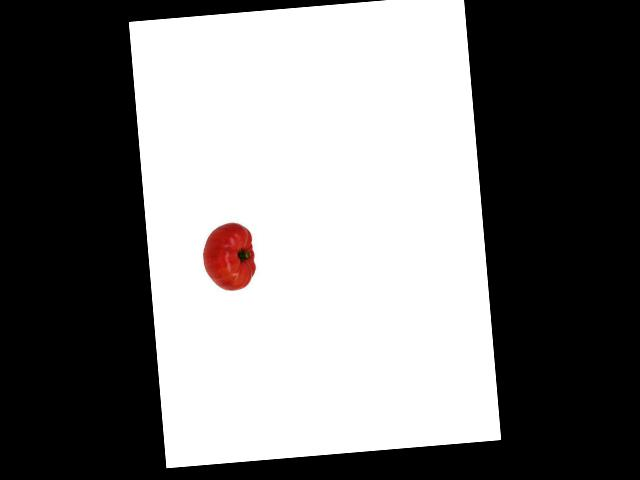tomato: (200, 221, 256, 293)
